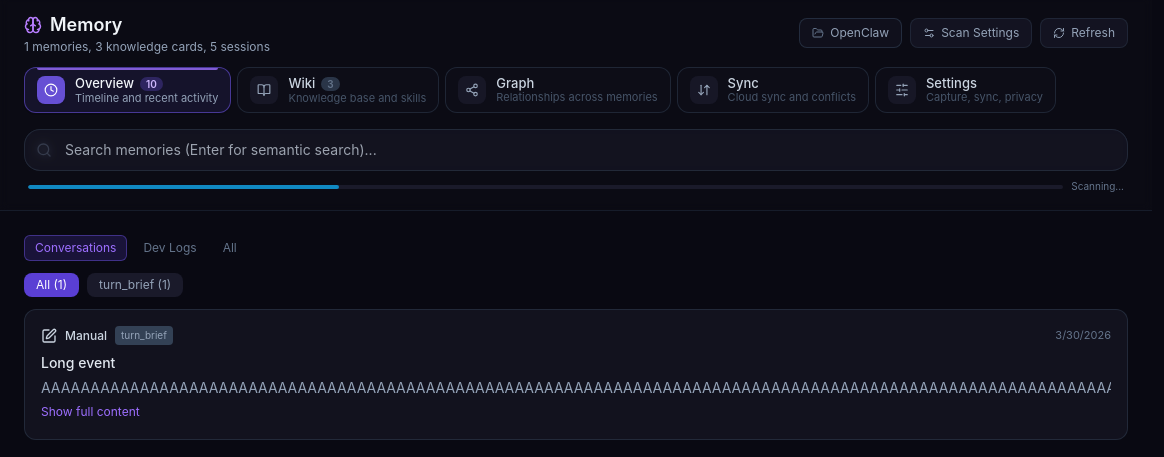
Test case: Memory Page — Timeline & Daemon (E2E) › flow: clicking event expands full content, clicking again collapses
expect the heading "Long event" is shown: met, box left=41, top=354, right=115, bottom=371
Note: Click to expand
Click the button "Show full content" at (90, 412), box left=41, top=404, right=140, bottom=420
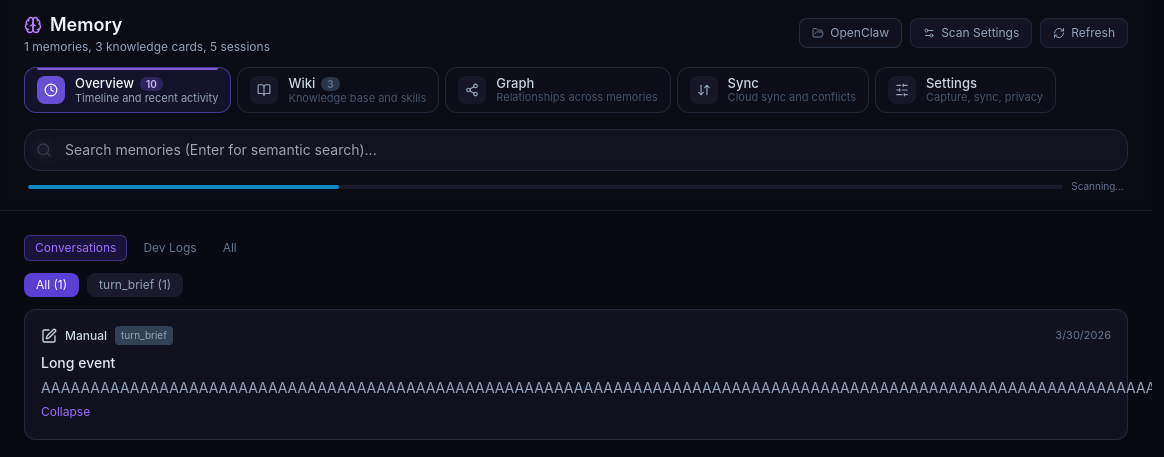
expect the button "Collapse" is shown: met
Note: Click to collapse
Click the button "Collapse" at (66, 412), box left=41, top=404, right=90, bottom=420
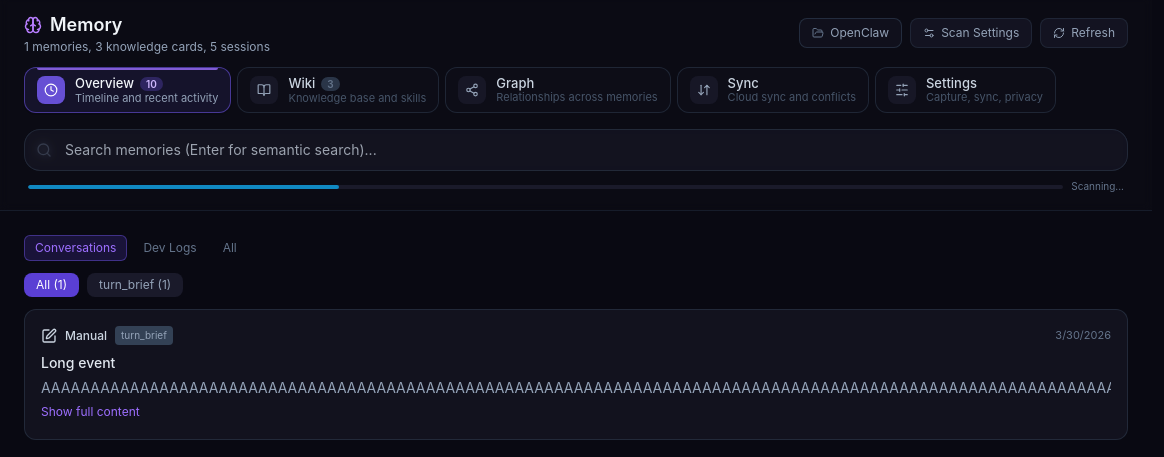
expect the button "Show full content" is shown: met, box left=41, top=404, right=140, bottom=420
